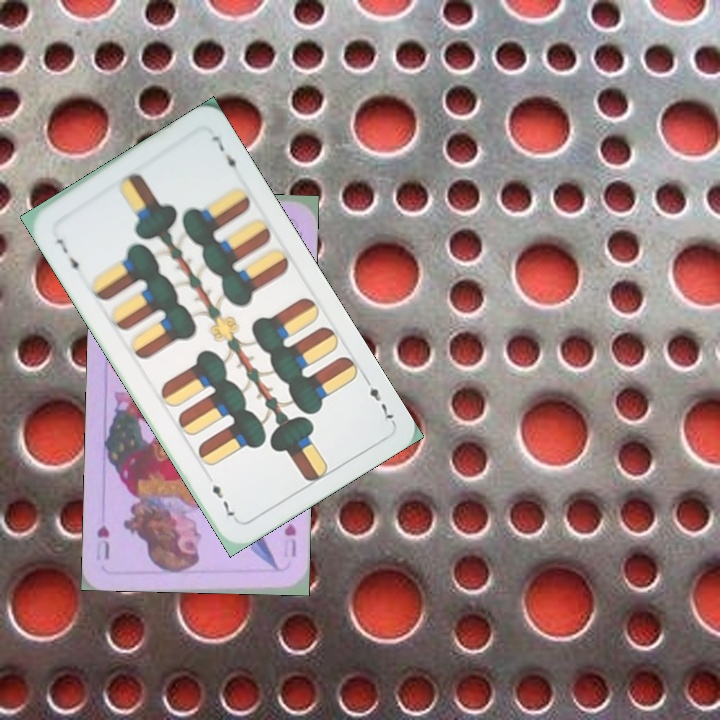E7: (360, 372, 397, 426), (51, 234, 82, 279)
HU: (279, 520, 299, 560)
